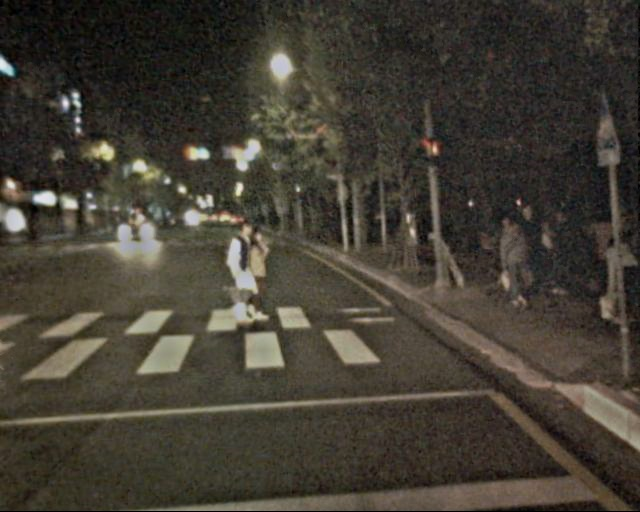person: (498, 211, 577, 305), (216, 216, 259, 322), (596, 231, 637, 330), (586, 214, 625, 309), (234, 230, 272, 322)
